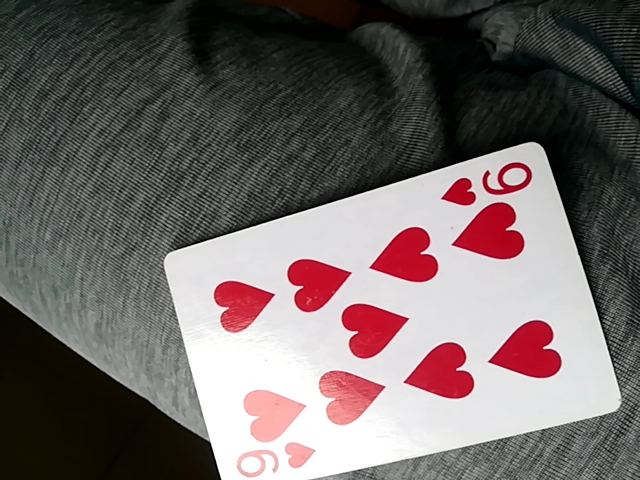hx 9: (167, 140, 618, 480)
